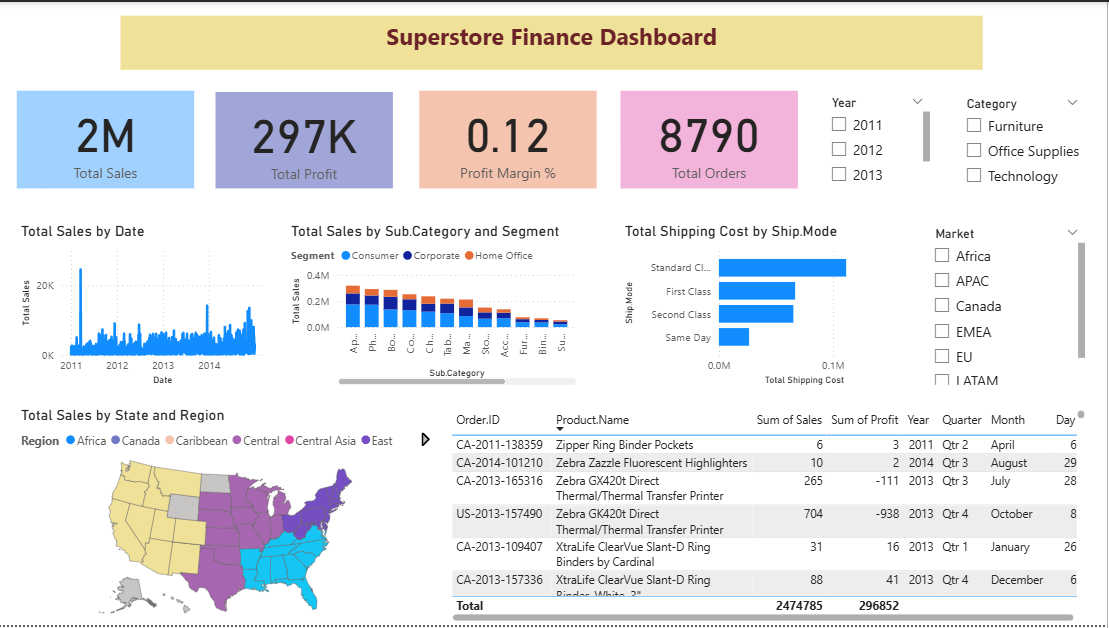

Layout of this report page (visuals, bound fields, positions):
{"tool":"powerbi","page":{"name":"Page 1","canvas":[1280,720],"ordinal":0},"visuals":[{"type":"card","fields":{"Values":["superstore.Total Sales"]},"box":[21.6,102.4,204.9,112.5],"z":0},{"type":"card","fields":{"Values":["superstore.Total Profit"]},"box":[251,103.9,204.9,111.1],"z":1000},{"type":"card","fields":{"Values":["superstore.Profit Margin %"]},"box":[486.2,102.4,204.9,112.5],"z":2000},{"type":"card","fields":{"Values":["superstore.Total Orders"]},"box":[718.5,102.4,204.9,112.5],"z":3000},{"type":"lineChart","fields":{"Category":["Date.Date"],"Y":["superstore.Total Sales"]},"box":[21.6,253.9,292.9,193.3],"z":4000},{"type":"columnChart","fields":{"Category":["superstore.Sub.Category"],"Y":["superstore.Total Sales"],"Series":["superstore.Segment"]},"box":[333.3,253.9,339,193.3],"z":5000},{"type":"clusteredBarChart","fields":{"Category":["superstore.Ship.Mode"],"Y":["superstore.Total Shipping Cost"]},"box":[718.5,253.9,330.4,193.3],"z":6000},{"type":"tableEx","fields":{"Values":["superstore.Order.ID","superstore.Product.Name","Sum(superstore.Sales)","Sum(superstore.Profit)","superstore.Ship.Date.Variation.Date Hierarchy.Year","superstore.Ship.Date.Variation.Date Hierarchy.Quarter","superstore.Ship.Date.Variation.Date Hierarchy.Month","superstore.Ship.Date.Variation.Date Hierarchy.Day"]},"box":[518,466,741.6,253.9],"z":7000},{"type":"slicer","fields":{"Values":["superstore.Year"]},"box":[949.3,102.4,131.3,111.1],"z":8000},{"type":"slicer","fields":{"Values":["superstore.Category"]},"box":[1105.2,103.9,154.4,115.4],"z":9000},{"type":"slicer","fields":{"Values":["superstore.Market"]},"box":[1069.1,253.9,190.4,193.3],"z":10000},{"type":"textbox","box":[141.8,16.2,995.2,62.2],"z":11000},{"type":"shapeMap","fields":{"Category":["superstore.State"],"Series":["superstore.Region"],"Value":["superstore.Total Sales"]},"box":[21.6,466,481.9,253.9],"z":11001}]}

Visuals, with their boxes in screenshot pixels (x1, y1, x2, y2), scaled from the page's 1280x720 canvas onto the 1109x628 screenshot:
card - superstore.Total Sales: 19:89:196:187
card - superstore.Total Profit: 217:91:395:188
card - superstore.Profit Margin %: 421:89:599:187
card - superstore.Total Orders: 623:89:800:187
lineChart - Date.Date x superstore.Total Sales: 19:221:272:390
columnChart - superstore.Sub.Category x superstore.Total Sales: 289:221:582:390
clusteredBarChart - superstore.Ship.Mode x superstore.Total Shipping Cost: 623:221:909:390
tableEx - superstore.Order.ID x superstore.Product.Name: 449:406:1091:627
slicer - superstore.Year: 822:89:936:186
slicer - superstore.Category: 958:91:1091:191
slicer - superstore.Market: 926:221:1091:390
textbox: 123:14:985:68
shapeMap - superstore.State x superstore.Region: 19:406:436:627
